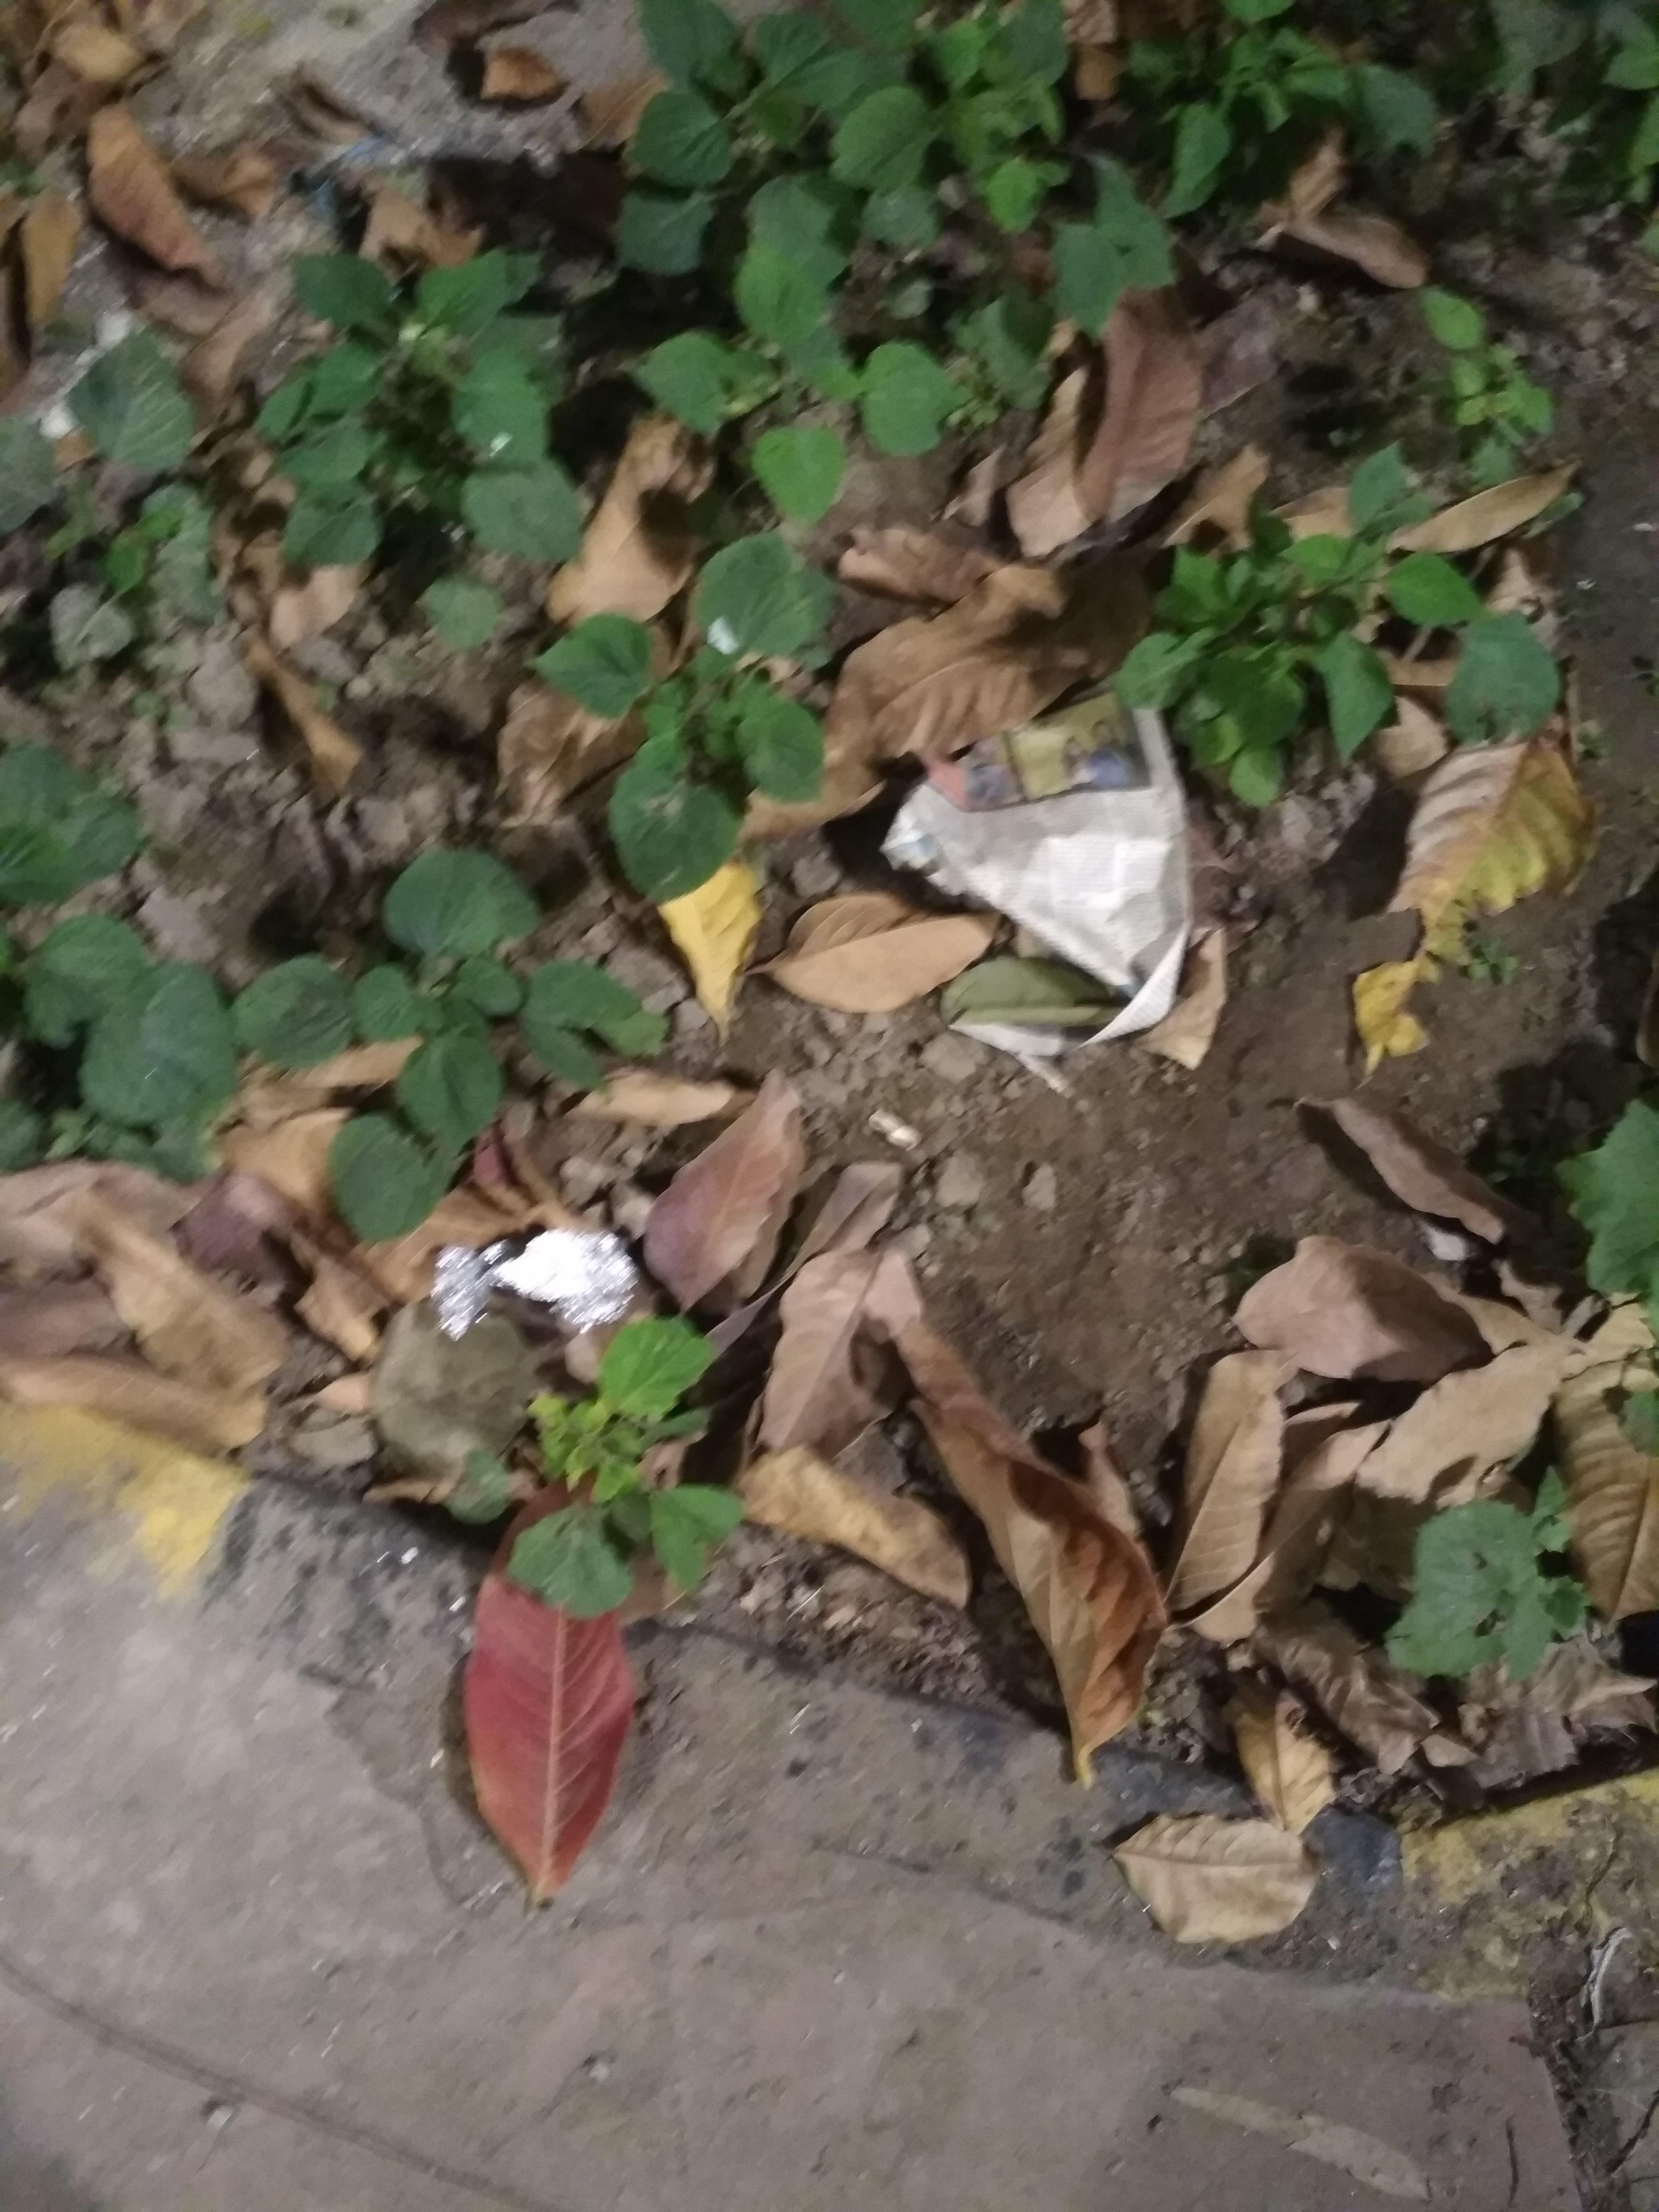trash: (377, 671, 1231, 1370)
